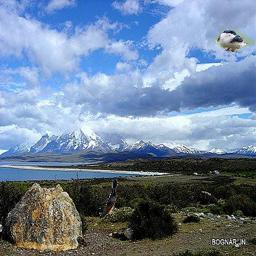Swallow: (215, 29, 255, 52), (99, 179, 118, 219)
